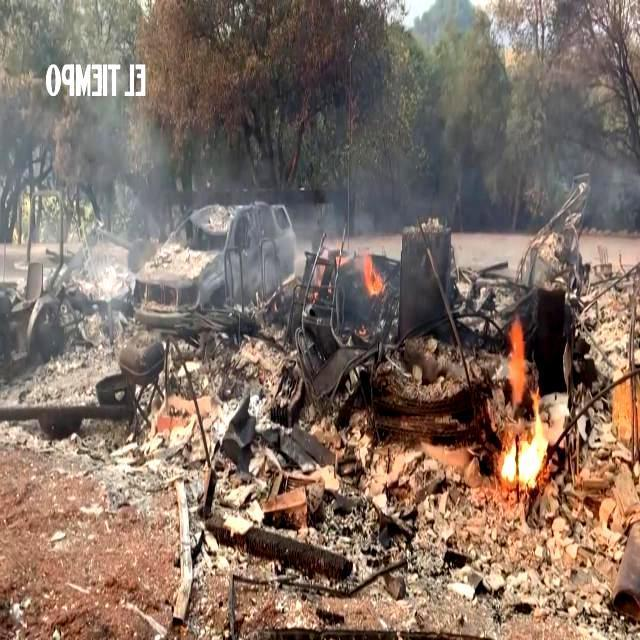Fire: (494, 311, 560, 508), (598, 363, 640, 438), (346, 250, 388, 303)
Smoke: (344, 8, 640, 253), (0, 96, 312, 316)
